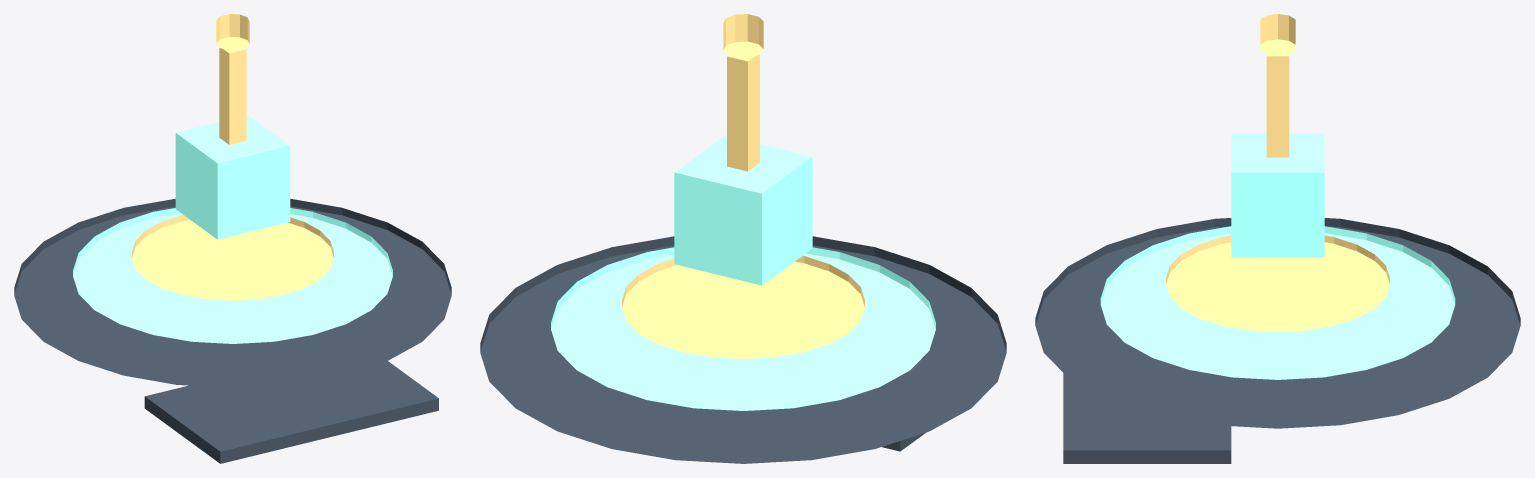
File: hermetic-monas.glb
The picture shows the model from 3 angles, left to right: view 1: azimuth 30°, elevation 25°; view 2: azimuth 150°, elevation 25°; view 3: azimuth 270°, elevation 25°; orthographic projection. The views are drawn at different scales.
Visible parts, largest first — view 1: orrery-ring-0, orrery-ring-1, tablet, orrery-ring-2, monas-core, sigil-axis, sigil-tip; view 2: orrery-ring-0, orrery-ring-1, orrery-ring-2, monas-core, sigil-axis, sigil-tip; view 3: orrery-ring-0, orrery-ring-1, orrery-ring-2, monas-core, tablet, sigil-axis, sigil-tip.
Boxes of the visible parts, x1,y1,x2,y2 form: orrery-ring-0: [14, 198, 451, 387]; orrery-ring-1: [73, 208, 392, 343]; tablet: [144, 361, 438, 463]; orrery-ring-2: [132, 215, 333, 300]; monas-core: [175, 115, 290, 239]; sigil-axis: [219, 48, 246, 144]; sigil-tip: [216, 14, 249, 50]; orrery-ring-0: [480, 236, 1006, 463]; orrery-ring-1: [551, 247, 935, 410]; orrery-ring-2: [622, 255, 864, 358]; monas-core: [674, 135, 812, 285]; sigil-axis: [727, 54, 759, 171]; sigil-tip: [723, 14, 763, 58]; orrery-ring-0: [1035, 218, 1520, 428]; orrery-ring-1: [1100, 226, 1455, 379]; orrery-ring-2: [1166, 235, 1389, 331]; monas-core: [1231, 133, 1324, 257]; tablet: [1063, 373, 1231, 463]; sigil-axis: [1266, 53, 1289, 157]; sigil-tip: [1260, 14, 1295, 54].
Size of what is drawn, in the model's own units: 2.6 by 2.26 by 2.6.
